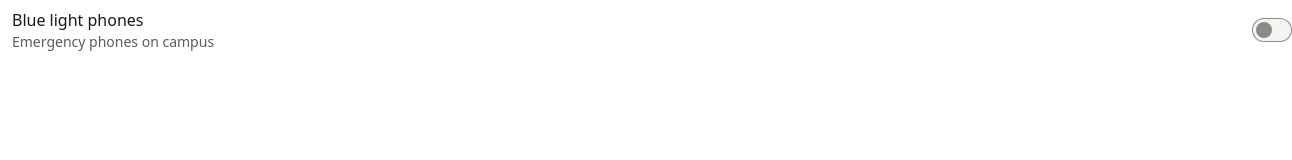
it: SwitchRow › is a switch named by its label, toggled from anywhere on the row
This screenshot has width=1292, height=160.
Later steps or results of the test are not shown.
Click the text "Emergency phones on campus" at [113, 42], box [12,32,214,51]
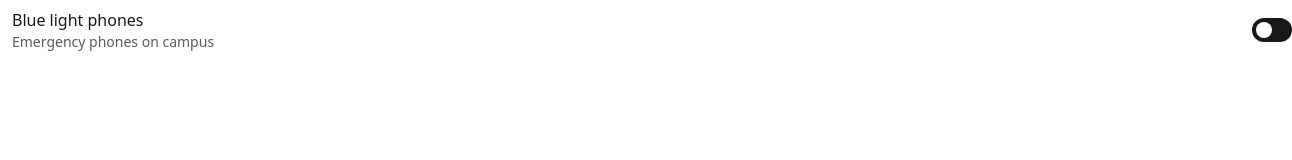
expect the switch named "blue light phones" is checked: met, box [1252,18,1291,42]
